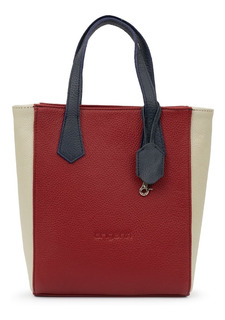cartera: (10, 14, 214, 299)
